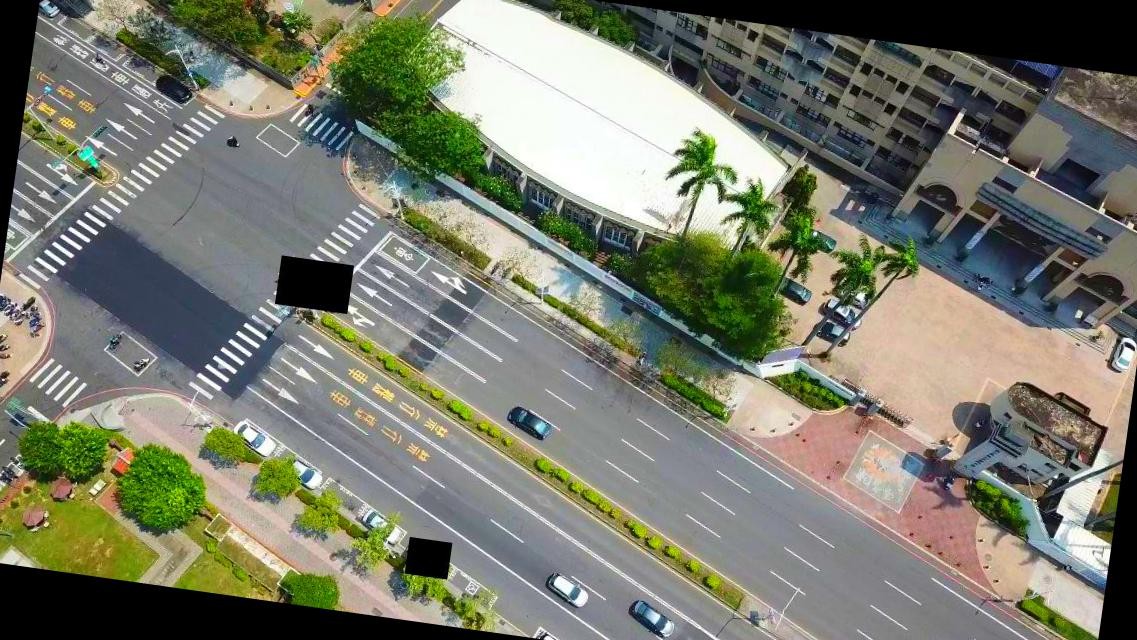vehicle: (628, 600, 678, 636), (279, 454, 325, 492), (148, 70, 198, 104), (820, 295, 865, 332), (355, 508, 402, 542), (545, 575, 589, 610), (232, 422, 277, 456), (506, 406, 550, 440), (778, 274, 814, 306), (1108, 336, 1136, 376), (834, 280, 870, 307), (814, 322, 852, 346), (806, 230, 837, 254), (38, 0, 62, 20)
